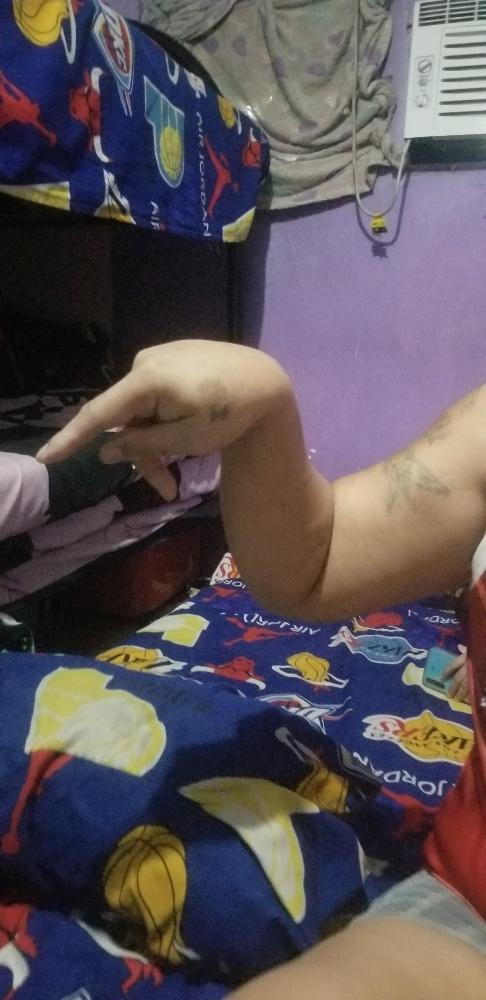p: (36, 337, 291, 503)
